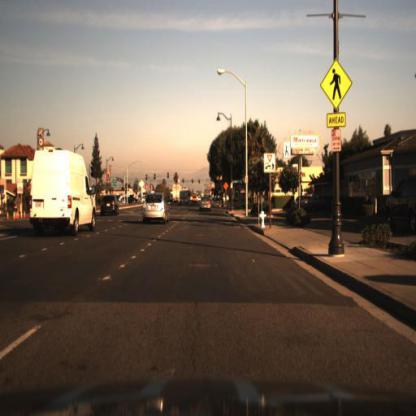car: (30, 146, 99, 244), (142, 194, 170, 226), (101, 194, 122, 219), (199, 193, 217, 216), (178, 188, 192, 210), (187, 193, 198, 213)
truck: (29, 152, 98, 240), (180, 189, 191, 206)
